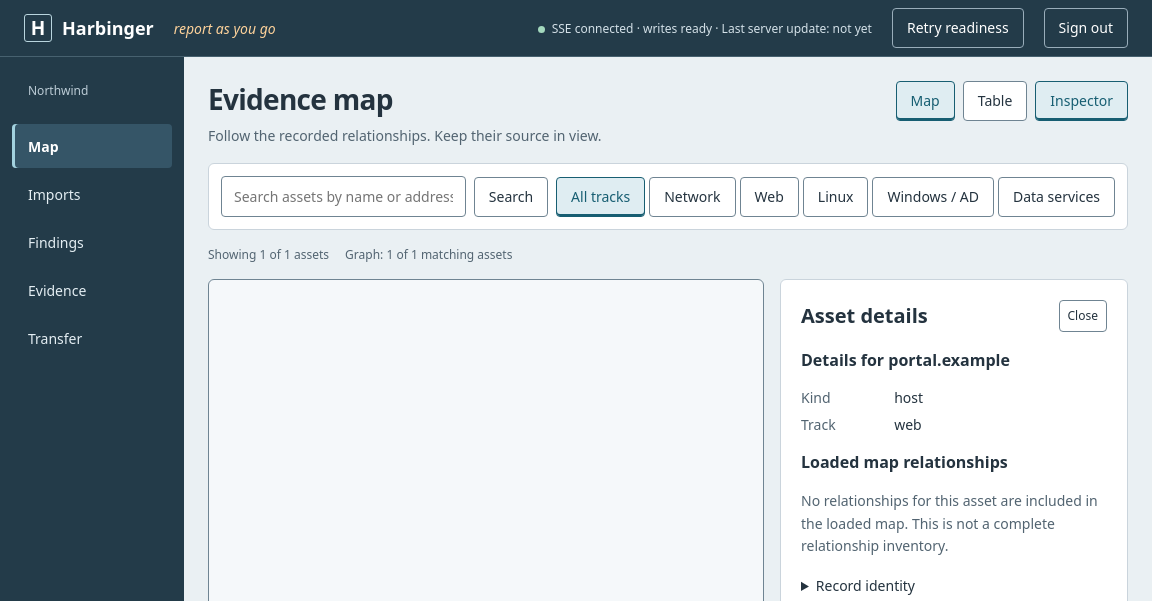
it: Harbinger UI contract › keeps the finding selected after submission even when the receipt is a lead
Click the link "Findings": point(56, 242) [28,233,84,252]
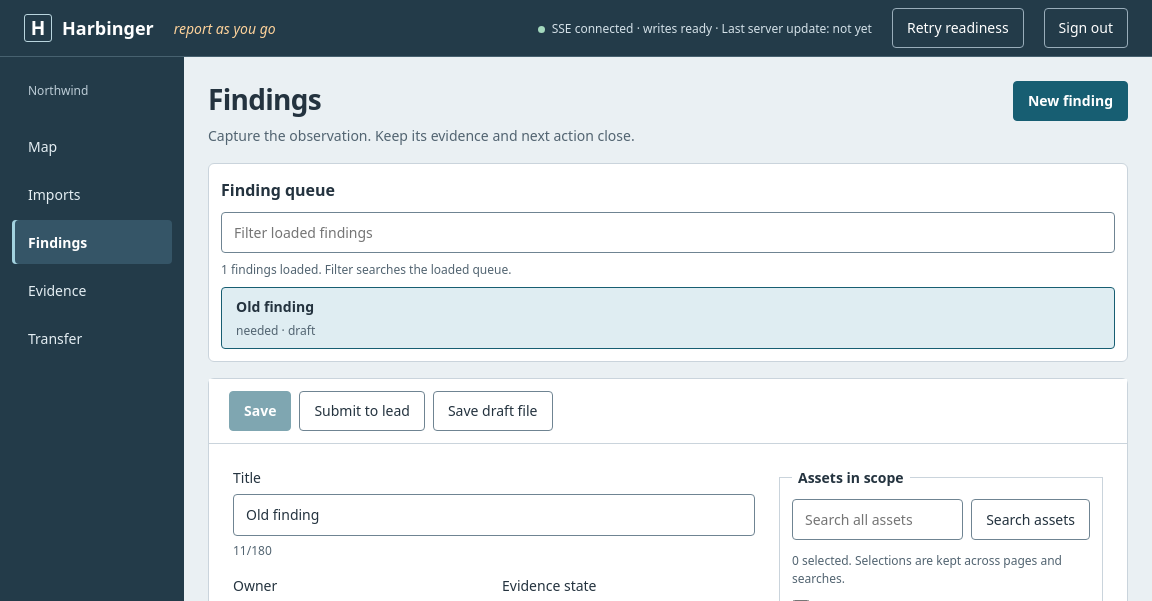
Click the button "Submit to lead": point(362, 411) [299,391,425,431]
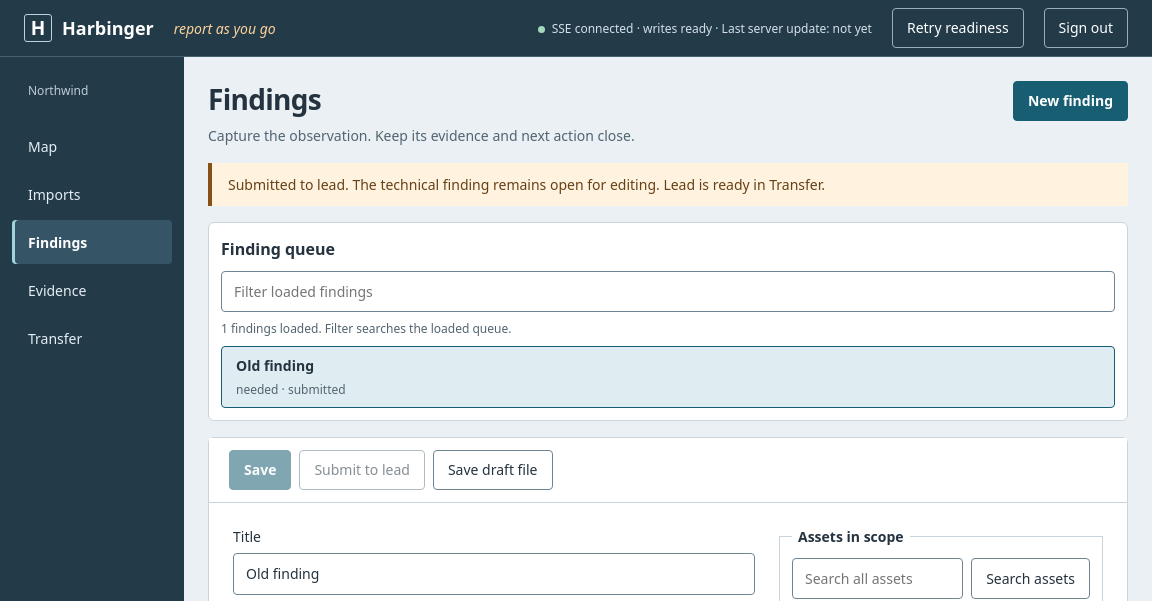
Check: the field labelled "Title" holds "Old finding", box [233,553,755,595]
Check: the text "Submitted to lead. The technical finding" is shown, box [228,175,660,194]
Check: the button "Submit to lead" is disabled, box [299,450,425,490]
